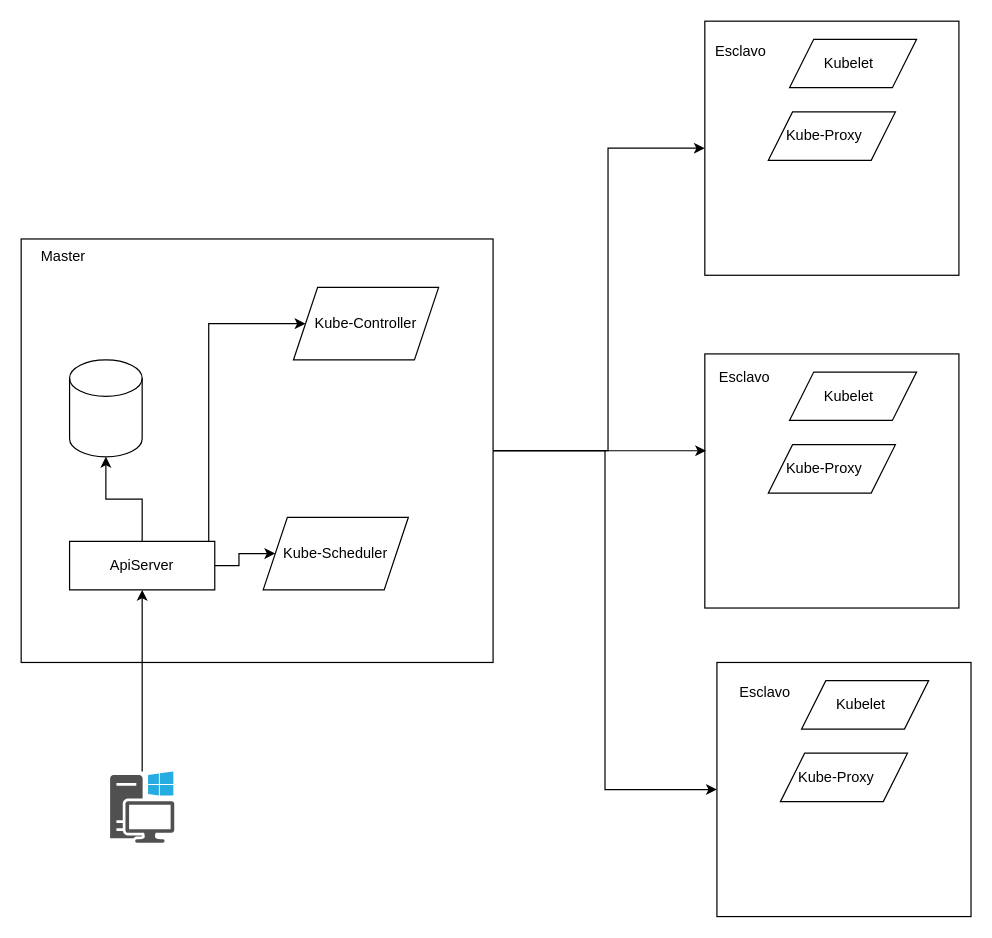
Image size: 992x938. Some labels were removed from this diagram. The box of each missing label's shape, as (x1, y1, x2, y2) in pixels:
DB-ETCD: (68, 359, 142, 457)
User: (110, 771, 174, 842)
